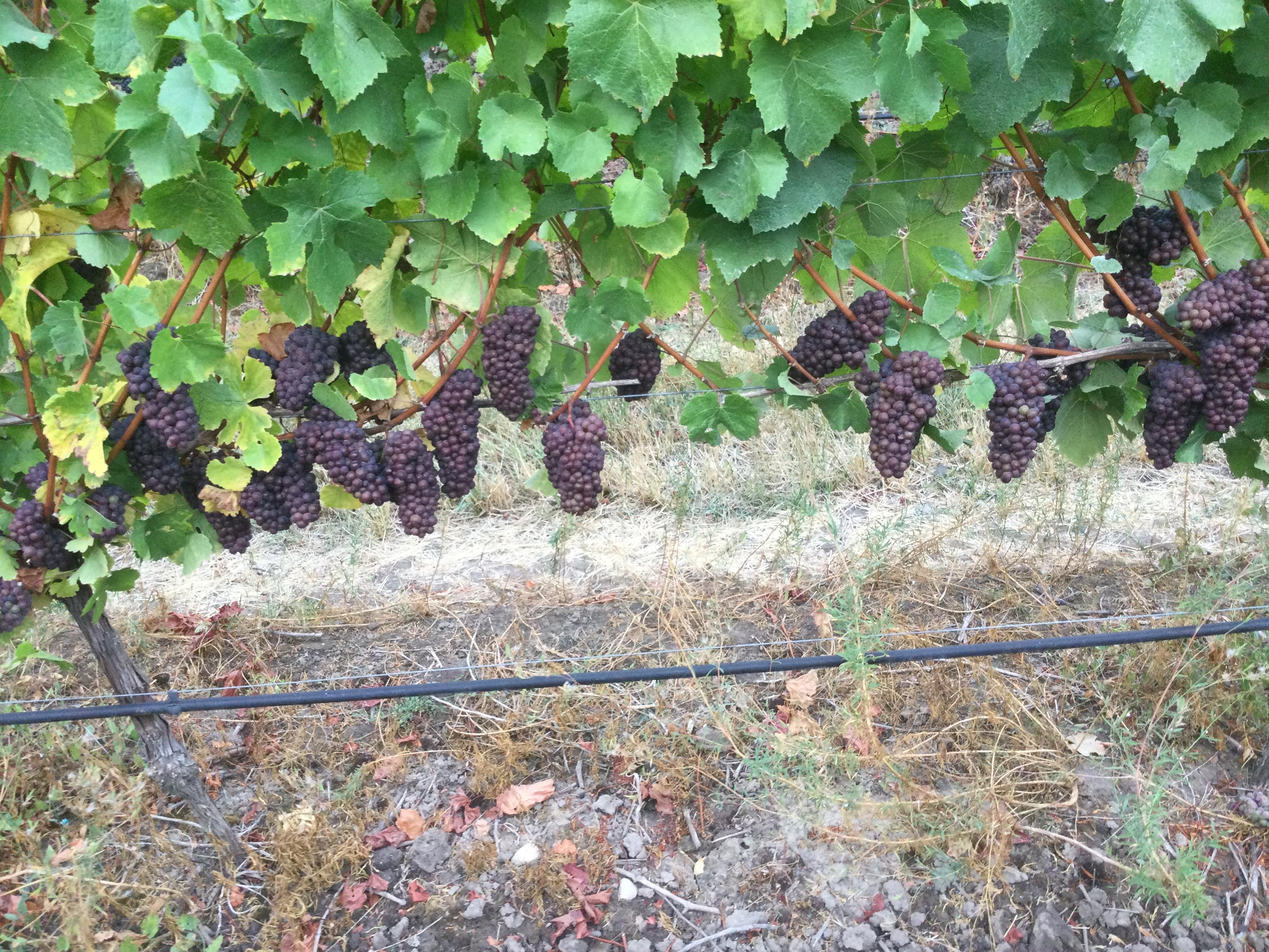leaf: (264, 166, 390, 310), (566, 0, 720, 112), (750, 24, 875, 161), (956, 4, 1072, 135), (265, 0, 406, 107), (0, 40, 104, 174), (1114, 0, 1244, 89), (697, 108, 787, 221), (190, 357, 280, 470), (876, 9, 964, 123), (144, 163, 250, 256), (749, 144, 855, 231), (115, 74, 198, 185), (326, 56, 421, 151), (408, 222, 500, 312), (0, 236, 69, 340), (354, 229, 416, 342), (700, 215, 798, 283), (634, 92, 704, 187), (241, 35, 315, 119), (40, 387, 107, 476), (1171, 82, 1241, 166), (250, 112, 334, 175), (150, 321, 225, 391), (465, 163, 531, 242), (547, 104, 611, 180), (477, 93, 547, 161), (1053, 391, 1113, 466), (1006, 0, 1064, 77), (493, 14, 546, 94), (157, 63, 214, 136), (411, 107, 462, 177), (610, 168, 669, 228), (423, 163, 478, 222), (31, 301, 87, 357), (1044, 148, 1098, 200), (633, 208, 689, 258), (103, 284, 159, 333), (814, 384, 869, 433), (0, 0, 52, 48), (1220, 434, 1268, 484), (715, 393, 759, 440), (921, 281, 961, 325), (349, 365, 397, 399), (312, 382, 356, 419), (206, 457, 251, 492), (964, 370, 995, 409), (504, 242, 520, 277), (662, 262, 664, 266), (958, 83, 963, 84), (654, 273, 655, 278)
